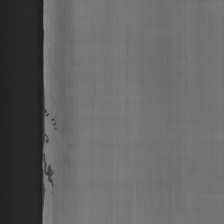water_spot: (41, 103, 57, 203)
